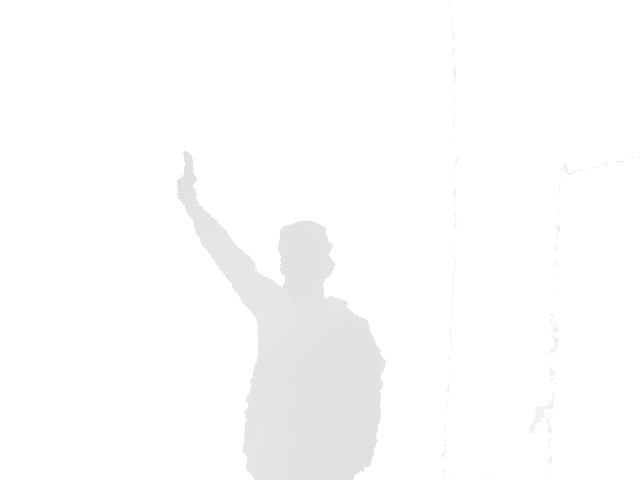hand: (175, 150, 199, 202)
head: (277, 219, 335, 286)
person: (175, 150, 387, 480)
